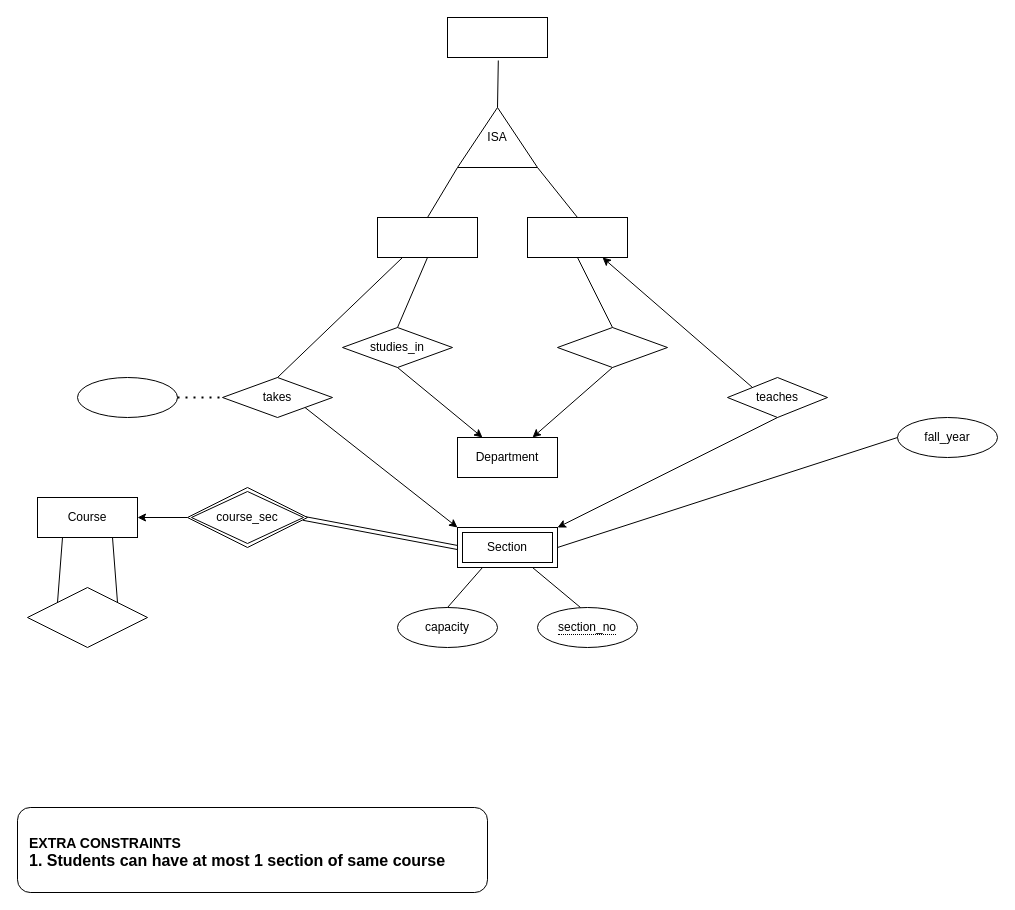
This 1015x910 diagram has some shape labels left out. Here are the shapes that lost their labels. From the top down, the centre of each, then its label:
At (x=497, y=37): "User".
At (x=427, y=237): "Student".
At (x=577, y=237): "Teacher".
At (x=612, y=347): "works_in".
At (x=127, y=397): "grade".
At (x=87, y=617): "Prerequisite".
